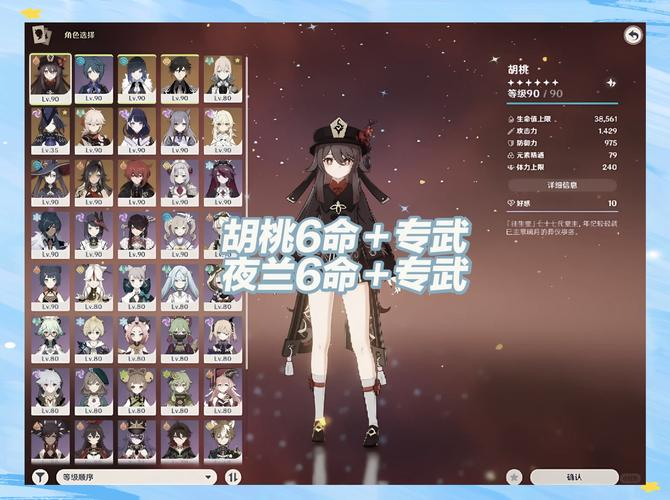夜兰: (120, 57, 154, 93)
